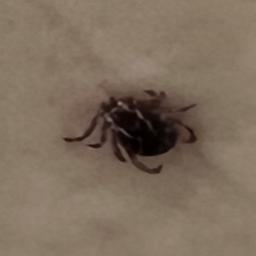Dermacentor variabilis: (62, 89, 199, 176)
